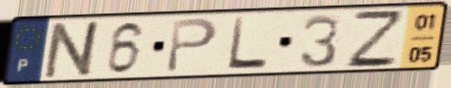3: (300, 12, 341, 70)
6: (107, 20, 145, 75)
L: (224, 15, 270, 72)
N: (40, 19, 107, 81)
P: (163, 16, 221, 75)
Z: (345, 9, 405, 71)
